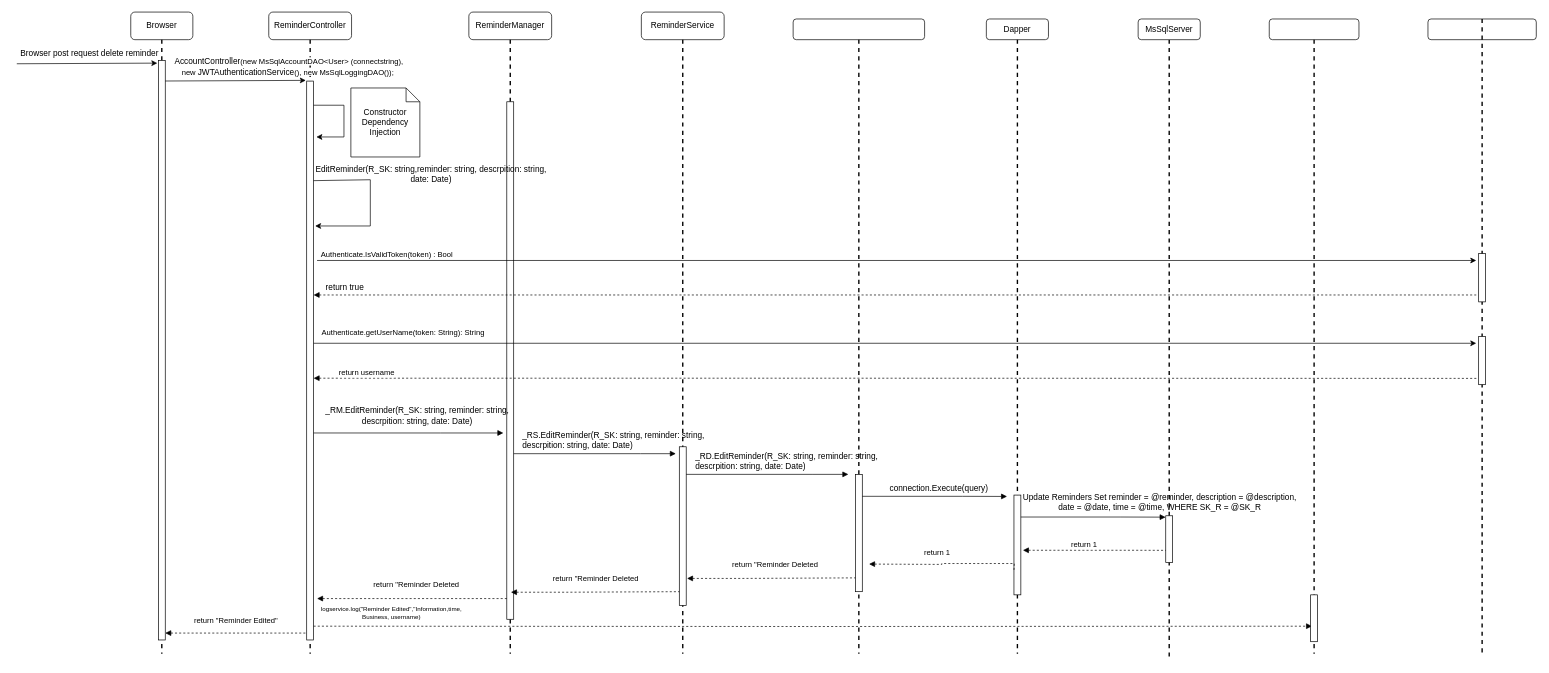
Some shapes in this 1549 by 673 pixel diagram are drawn without their labels. Each missing label, with the box of its shape:
JWTAuthenticationService: (1427, 18, 1536, 40)
ReminderMsSqlDao: (792, 18, 925, 40)
SQLLoggingService: (1269, 18, 1359, 40)
